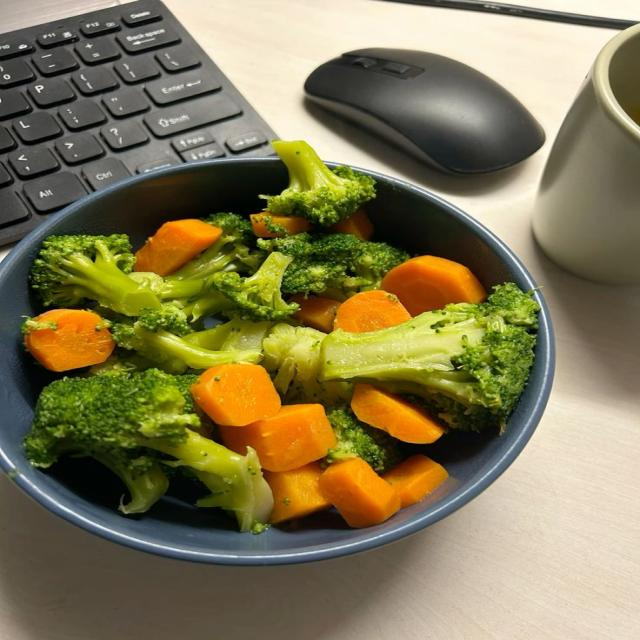broccoli: (25, 369, 273, 531), (320, 283, 539, 430), (137, 252, 299, 323), (29, 235, 161, 315), (111, 306, 262, 374), (259, 233, 409, 299), (260, 141, 375, 227), (261, 323, 352, 406), (168, 213, 265, 279), (211, 252, 299, 322), (327, 405, 403, 473), (350, 241, 410, 288)
carrot: (220, 404, 337, 471), (381, 256, 486, 316), (23, 310, 114, 371), (191, 363, 280, 425), (350, 384, 443, 443), (320, 458, 399, 527), (135, 219, 221, 275), (264, 462, 330, 523), (383, 455, 448, 508), (334, 290, 411, 332), (291, 294, 340, 332), (252, 212, 310, 237), (330, 209, 373, 239)
